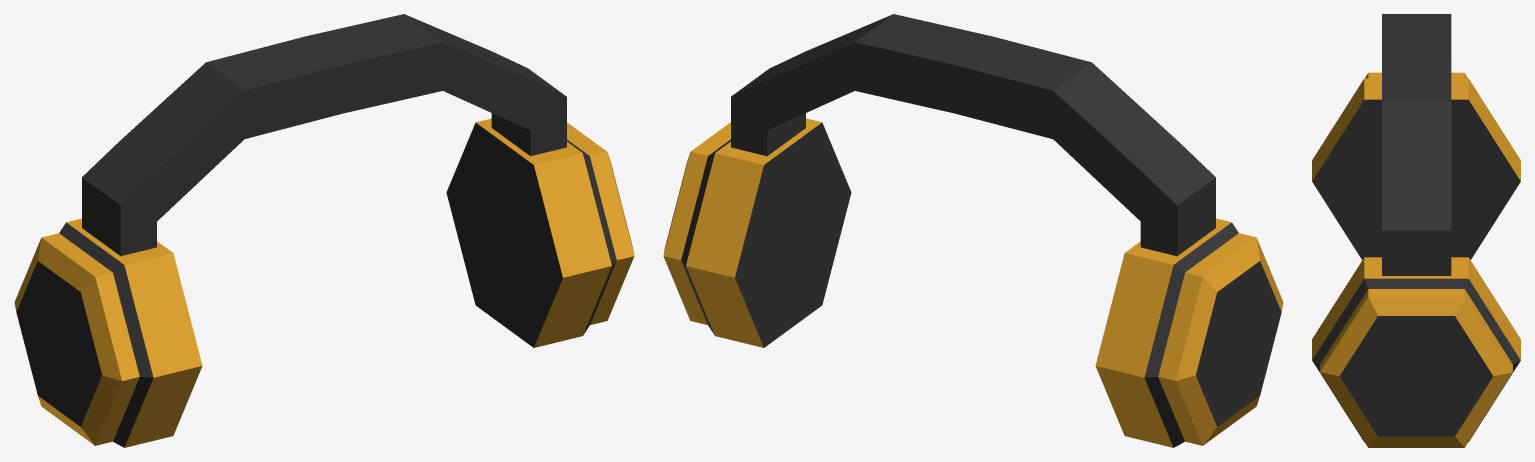
The model's file is Headphone.fbx.
The picture shows the model from 3 angles, left to right: view 1: azimuth 30°, elevation 25°; view 2: azimuth 150°, elevation 25°; view 3: azimuth 270°, elevation 25°; orthographic projection. The views are drawn at different scales.
Visible parts, largest first — view 1: Headphone; view 2: Headphone; view 3: Headphone.
Boxes of the visible parts, bbox=[...] form: Headphone: bbox=[14, 14, 634, 447]; Headphone: bbox=[663, 14, 1283, 447]; Headphone: bbox=[1312, 14, 1520, 447].
Size of the model in its own units: 0.6312 by 0.364 by 0.2403.
